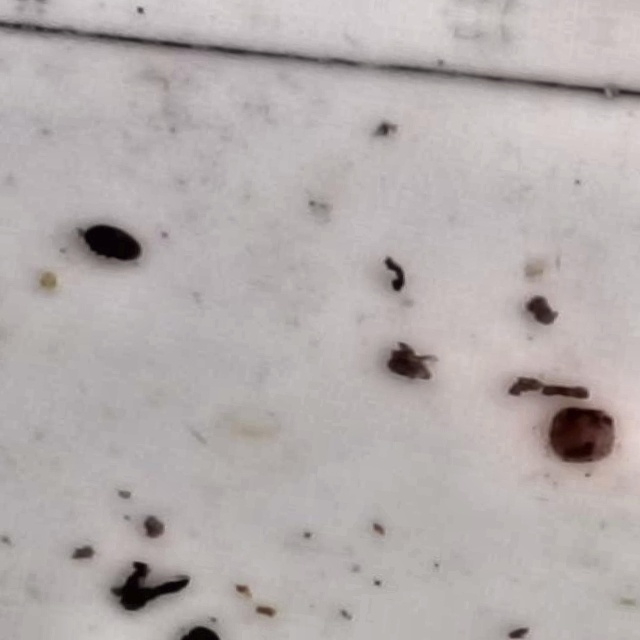varroa: (80, 223, 151, 268)
